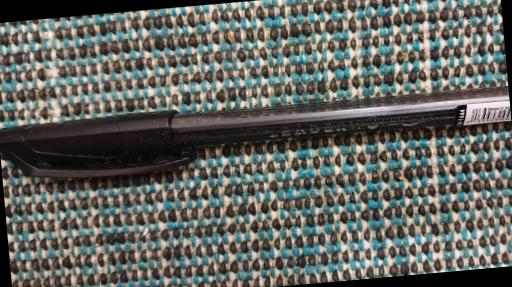pen: (0, 80, 512, 186)
